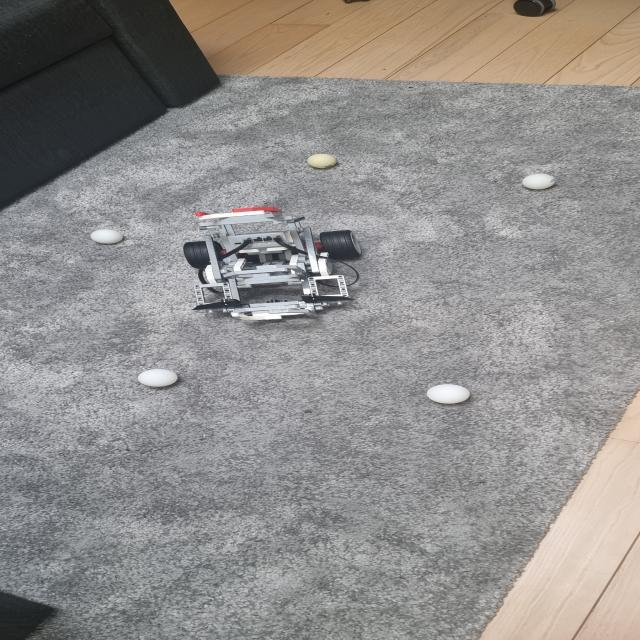robot: (182, 206, 363, 321)
white: (427, 384, 470, 404), (138, 368, 178, 386), (523, 174, 555, 189), (90, 229, 122, 244), (308, 153, 336, 168)
